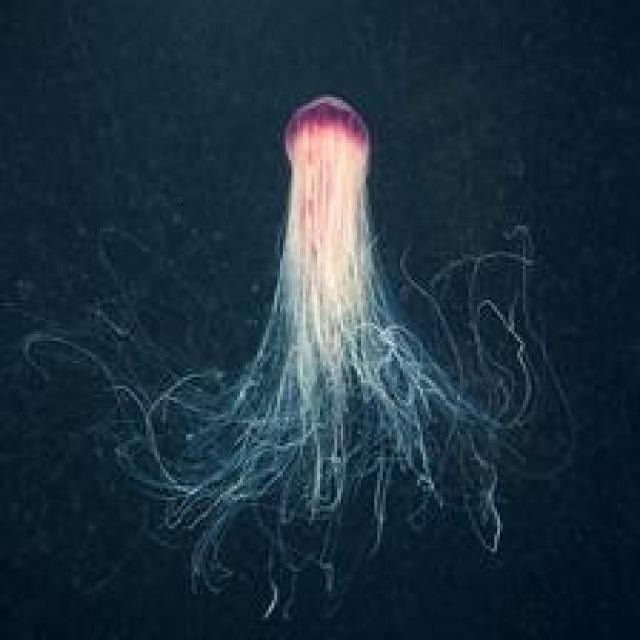Box-jellyfish: (20, 91, 574, 620)
